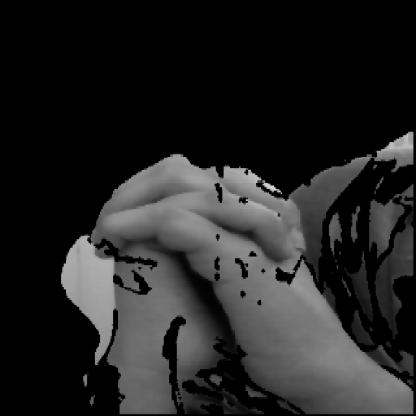prayer: (60, 142, 359, 406)
